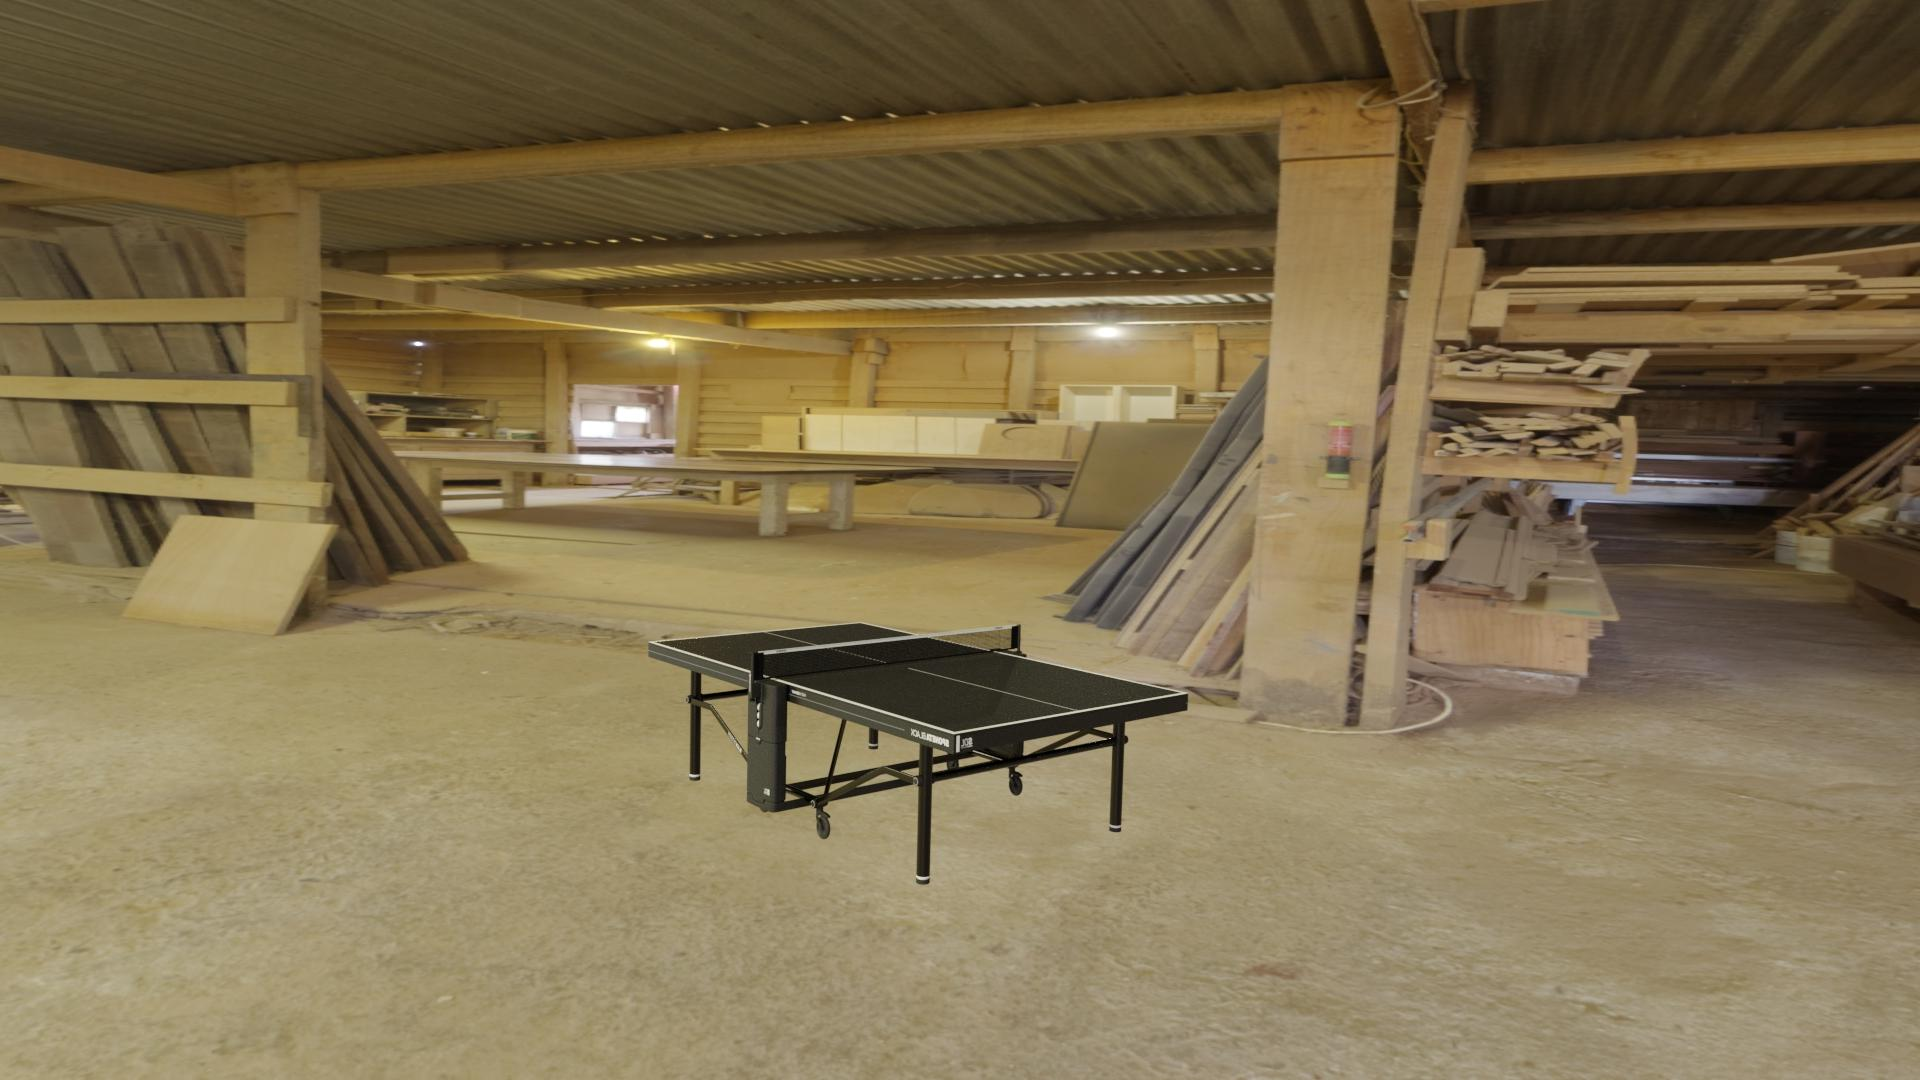table: (653, 622, 1183, 732)
